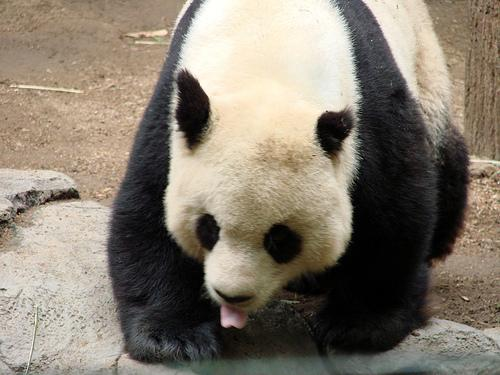panda: (107, 0, 466, 362)
